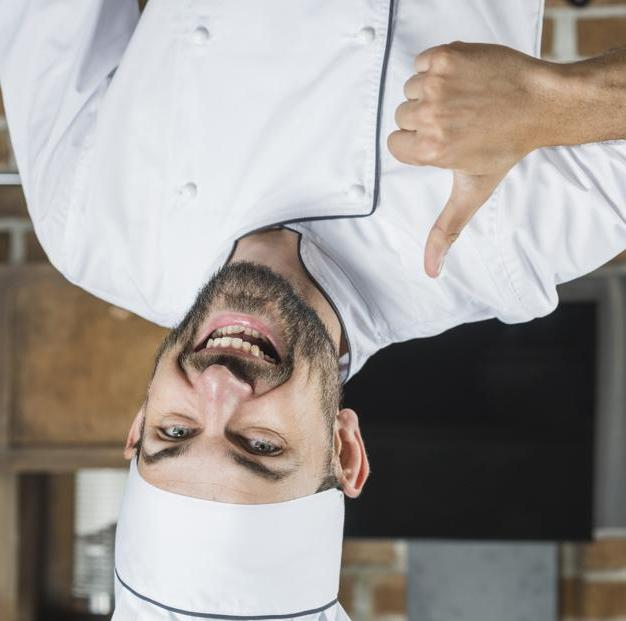thumbsdown: (386, 43, 502, 279)
